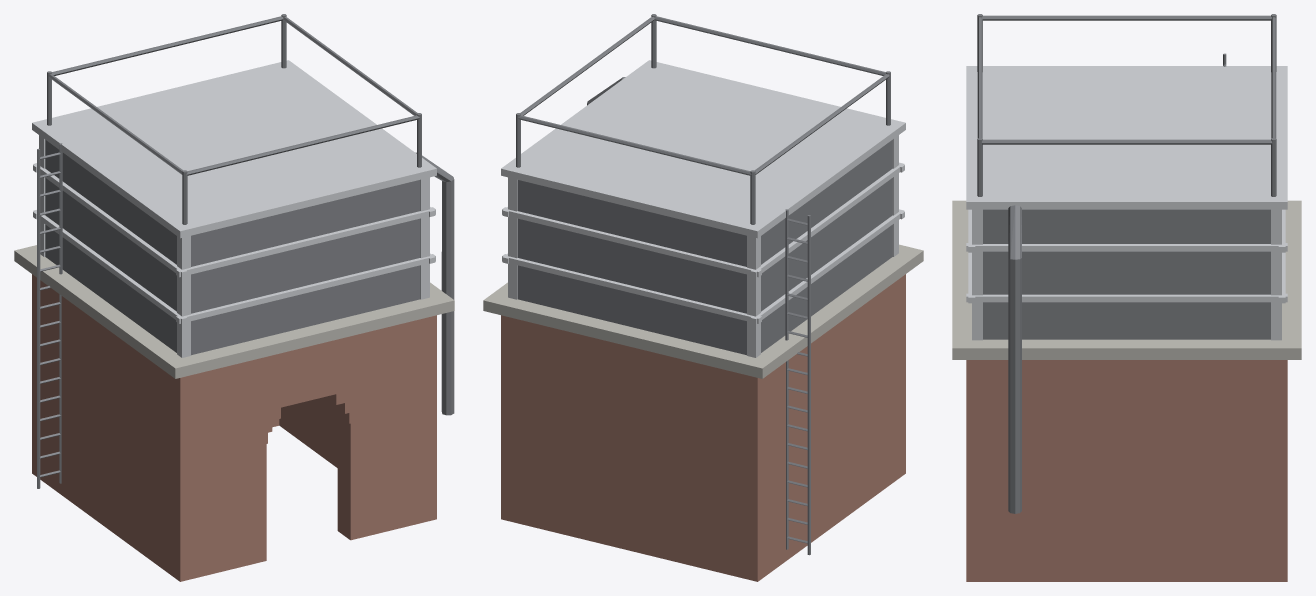
The model's file is steam-era-railway-and-rolling-stock-water-tower-87222c2b.glb.
3 renders of one model, left to right at view 1: azimuth 30°, elevation 25°; view 2: azimuth 150°, elevation 25°; view 3: azimuth 270°, elevation 25°, orthographic. The views are drawn at different scales.
Visible parts, largest first — view 1: water-tower; view 2: water-tower; view 3: water-tower.
Part boxes in pixels (box(x1,y1,x2,y2)): water-tower: box(14, 14, 454, 581); water-tower: box(483, 14, 923, 581); water-tower: box(952, 14, 1301, 581).
Bounding box in the file's own units: 5.73 × 6.9 × 5.
